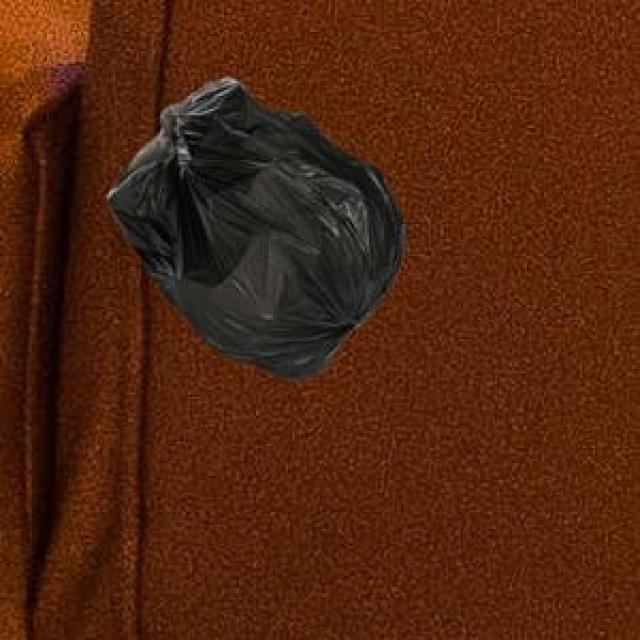miscellaneous trash: (105, 75, 401, 376)
